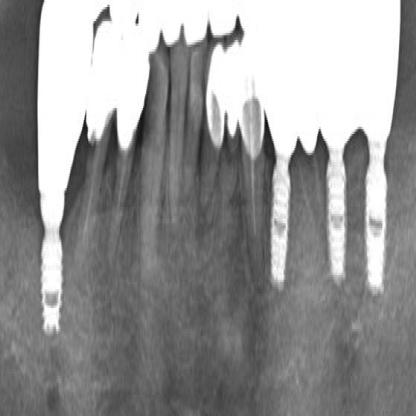Bicon: (320, 155, 354, 291), (358, 153, 388, 298), (260, 163, 294, 288), (34, 233, 71, 344)
